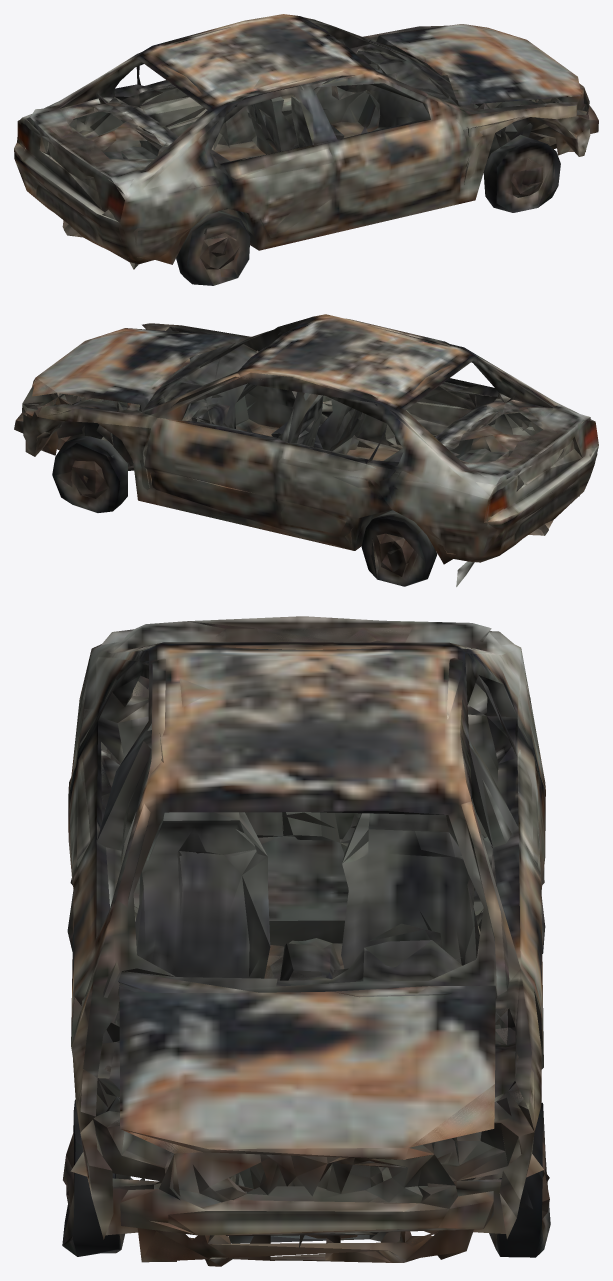
File: skyways-wreck-sedan-burnt.glb
The picture shows the model from 3 angles, top to bottom: view 1: azimuth 30°, elevation 25°; view 2: azimuth 150°, elevation 25°; view 3: azimuth 270°, elevation 25°; orthographic projection. The views are drawn at different scales.
Visible parts, largest first — view 1: skyways-wreck-sedan-burnt; view 2: skyways-wreck-sedan-burnt; view 3: skyways-wreck-sedan-burnt.
Part boxes in pixels (box(x1,y1,x2,y2)): skyways-wreck-sedan-burnt: box(14, 14, 598, 285); skyways-wreck-sedan-burnt: box(14, 314, 598, 586); skyways-wreck-sedan-burnt: box(62, 616, 550, 1266).
Size of the model in its own units: 4.75 by 1.48 by 2.
Materials: 1 (1 with a texture image).
